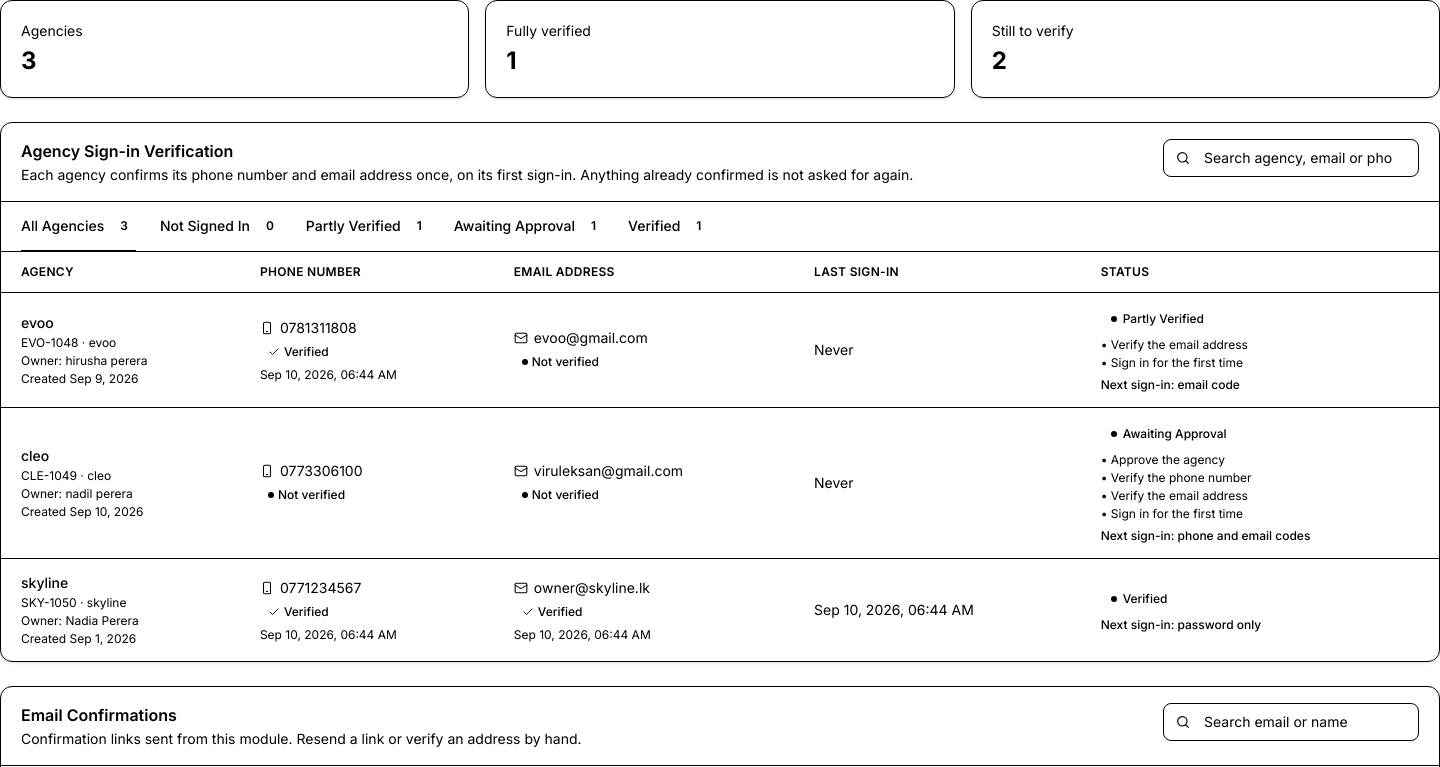
Test: agency sign-in verification › filters by where each agency stands
The image size is (1440, 767).
Expected: the text "evoo" is shown, [21,314,54,331]
Click the button "Verified 1" at (669, 227), box [628,202,709,252]
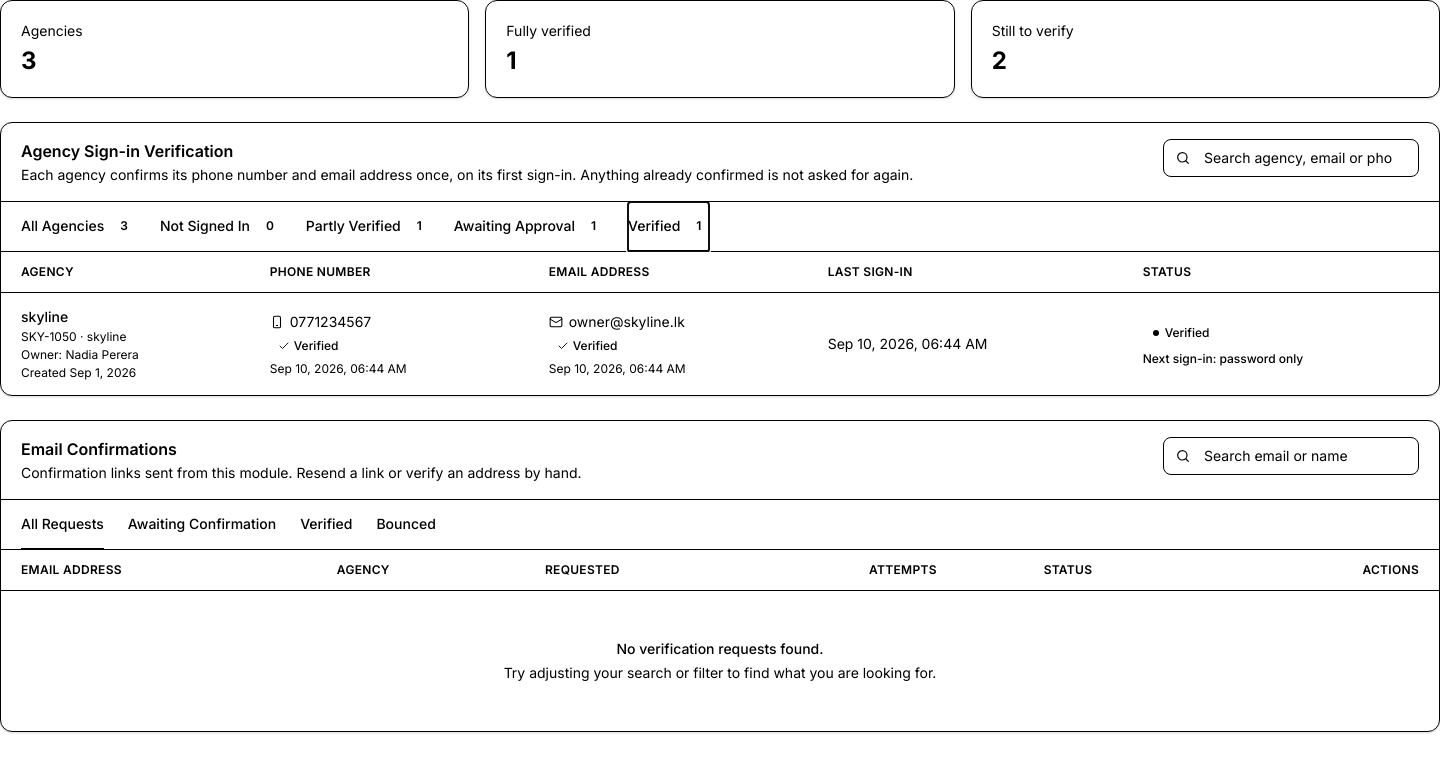
Expected: the text "skyline" is shown, [21,308,68,325]
Result: the text "evoo" is gone
Click the button "Partly Verified 1" at (368, 227), box [306,202,430,252]
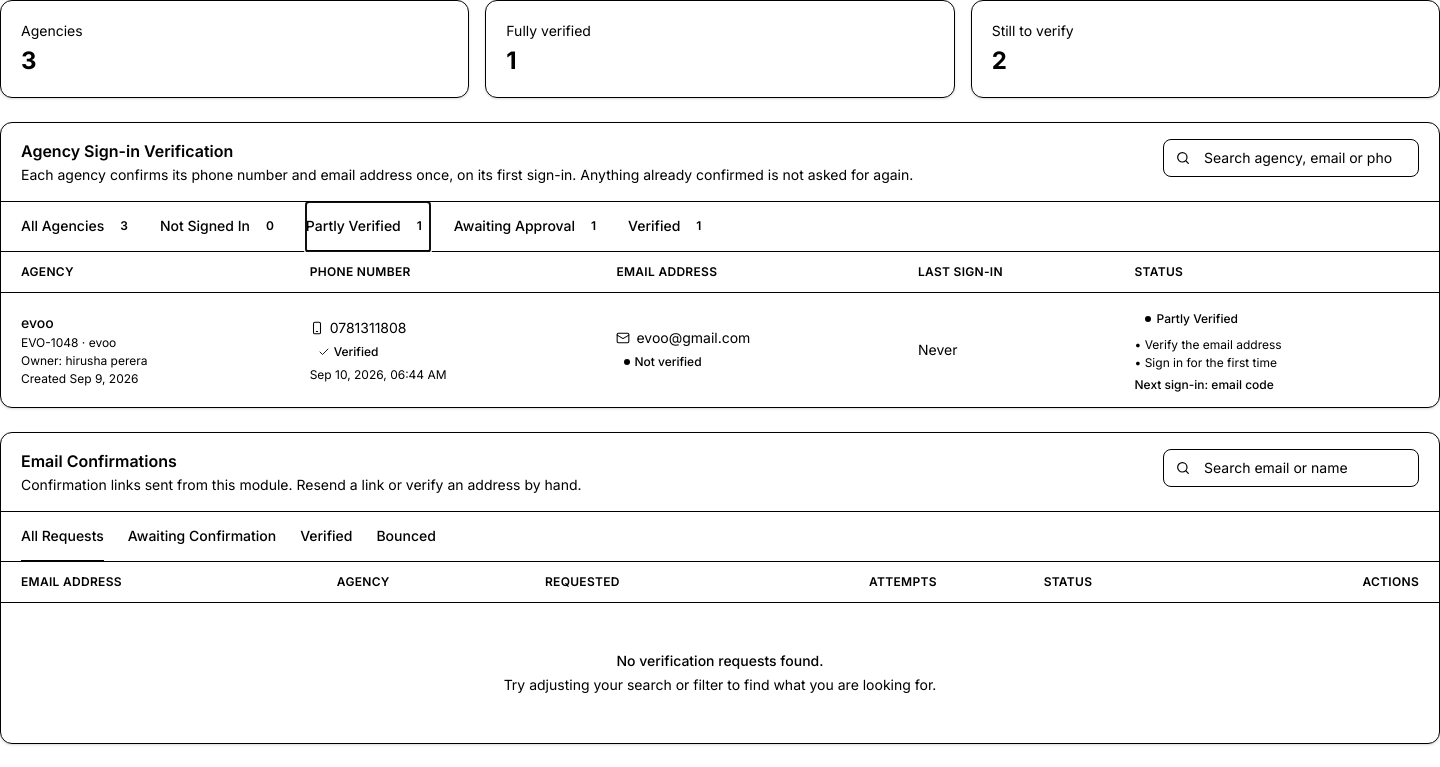
Result: the text "evoo" is shown at [21,314,54,331]
Result: the text "skyline" is gone
